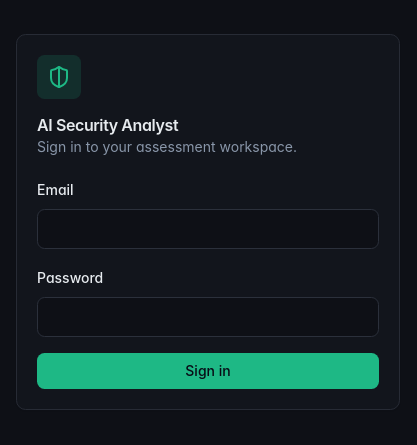
LoginPage › validates presence before calling login
The image size is (417, 445).
Click the button "Sign in".
click(208, 371)  # box x1=37 y1=353 x2=379 y2=389
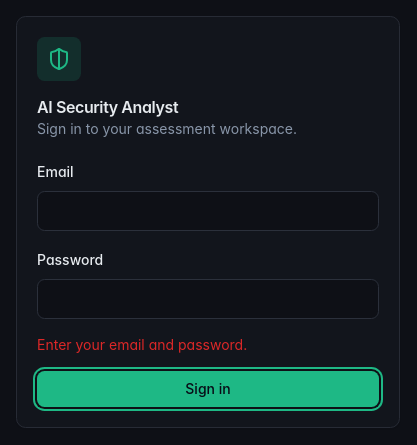
expect the message shows "email and password": met, box x1=37 y1=336 x2=247 y2=353
